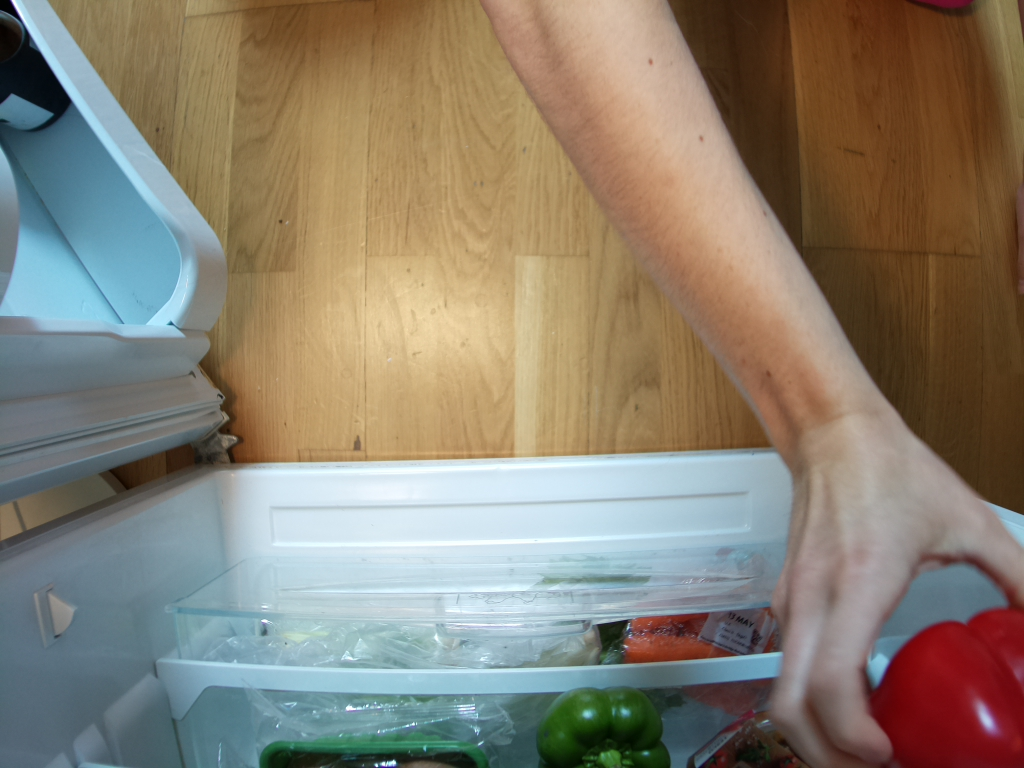pepper: (879, 607, 1024, 768), (530, 689, 669, 768)
